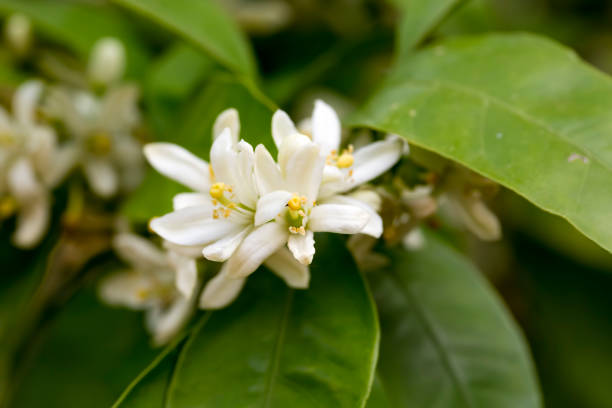flower: (248, 136, 380, 261), (136, 127, 254, 246), (271, 103, 410, 199), (97, 232, 200, 335), (59, 89, 152, 200), (1, 84, 58, 202)
